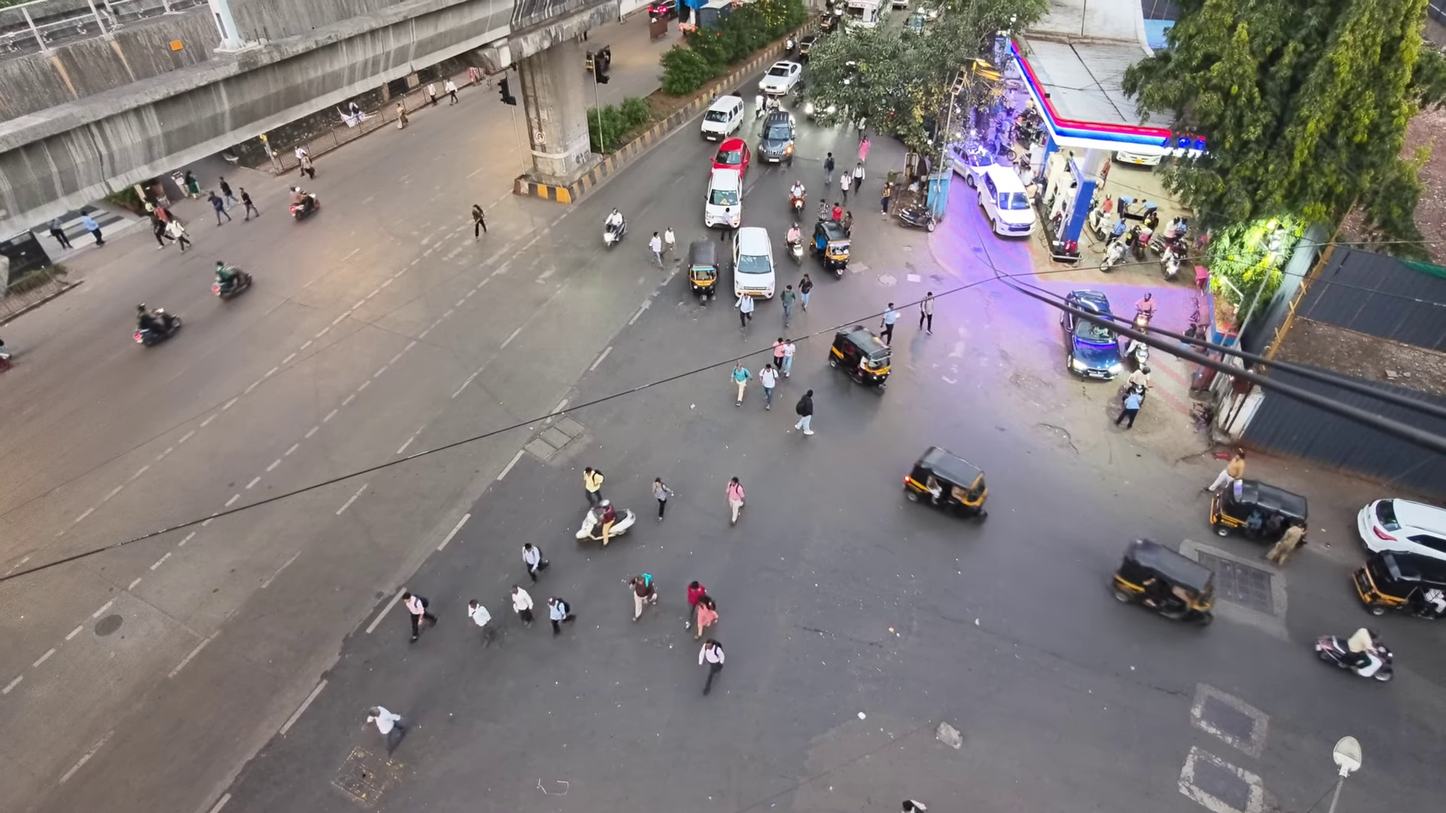walking: (366, 706, 405, 754), (1203, 449, 1244, 491), (1266, 521, 1304, 565), (403, 592, 437, 641), (699, 638, 724, 694), (629, 573, 657, 621), (468, 600, 493, 646), (522, 544, 549, 583), (695, 594, 718, 639), (548, 597, 575, 634), (685, 581, 706, 628), (1115, 391, 1142, 427), (652, 478, 673, 521), (510, 585, 532, 626), (731, 361, 751, 406), (726, 477, 745, 524), (167, 218, 191, 252), (759, 364, 777, 409), (880, 302, 899, 344), (795, 390, 813, 434), (779, 284, 796, 328), (583, 467, 603, 504), (209, 192, 231, 225), (151, 214, 173, 247), (735, 293, 754, 330), (239, 187, 259, 221), (82, 214, 103, 245), (919, 291, 934, 334), (218, 177, 238, 207), (648, 231, 664, 268), (471, 204, 487, 238), (799, 273, 813, 310), (781, 339, 795, 376), (183, 171, 200, 198), (773, 336, 786, 371), (880, 183, 892, 218), (822, 152, 834, 187), (299, 154, 315, 179), (853, 160, 865, 193), (840, 171, 852, 202), (859, 134, 871, 163), (663, 227, 675, 255), (444, 79, 457, 104), (396, 102, 408, 129), (841, 209, 853, 236), (830, 201, 844, 224), (902, 800, 926, 812), (426, 81, 437, 105)
